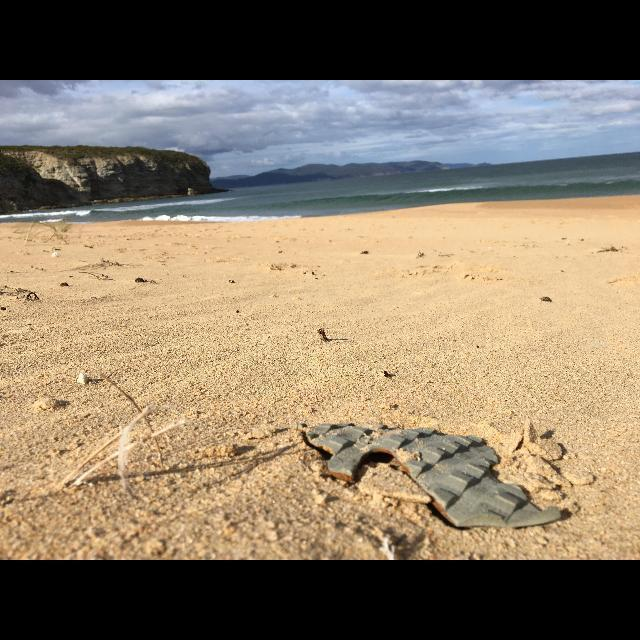Plastic: (292, 423, 562, 527)
